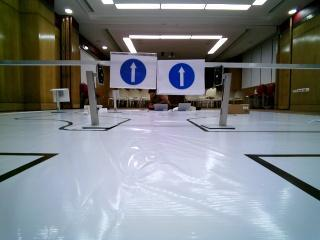straight: (109, 51, 154, 90), (159, 58, 205, 95)
